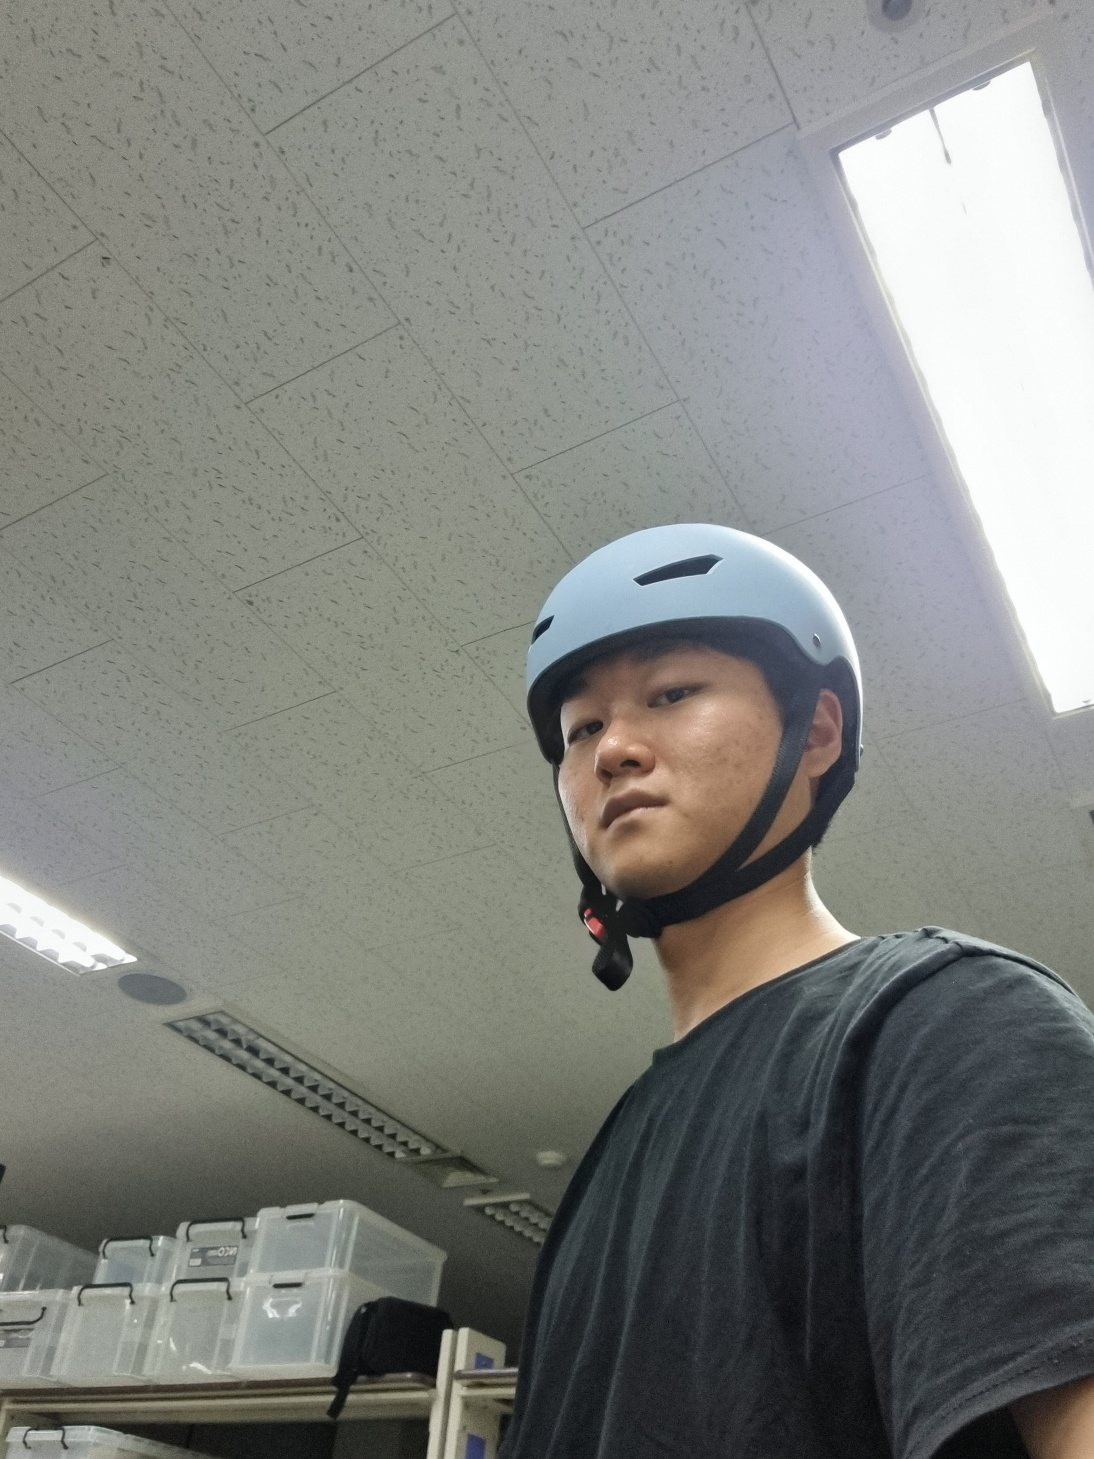Helmet: (484, 503, 894, 966)
